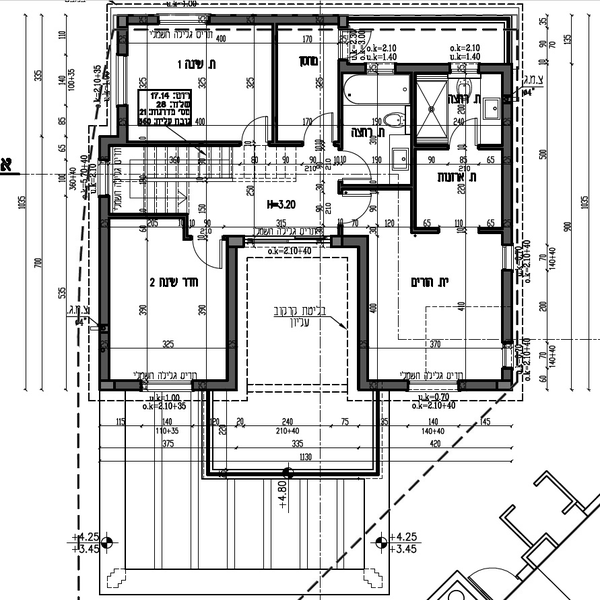door: (337, 189, 382, 224), (337, 147, 376, 186), (193, 235, 227, 277), (449, 111, 479, 148), (301, 113, 338, 142), (241, 114, 272, 147)
room: (97, 208, 237, 400), (353, 237, 516, 394), (114, 14, 287, 154), (409, 63, 515, 241), (332, 56, 421, 233), (340, 11, 513, 84), (271, 15, 344, 154)
wall: (498, 56, 519, 244), (97, 194, 112, 391), (223, 236, 239, 392), (207, 13, 352, 30), (356, 246, 371, 391), (406, 76, 418, 234), (267, 32, 282, 147), (497, 268, 517, 342), (360, 374, 408, 398), (131, 139, 241, 149), (455, 375, 512, 393), (112, 212, 194, 224), (337, 182, 412, 195), (397, 61, 451, 78), (336, 77, 347, 151), (96, 130, 117, 167), (331, 233, 369, 252), (195, 377, 232, 396), (115, 103, 132, 144), (112, 26, 134, 56), (115, 13, 157, 28), (328, 61, 373, 74), (97, 381, 150, 392), (265, 140, 307, 152), (477, 223, 502, 236), (411, 226, 438, 234)
window: (408, 371, 459, 397), (137, 376, 193, 397), (244, 236, 327, 250), (158, 11, 209, 31), (112, 54, 132, 102), (450, 59, 478, 82), (94, 163, 114, 192), (499, 243, 520, 268), (501, 343, 516, 365)
